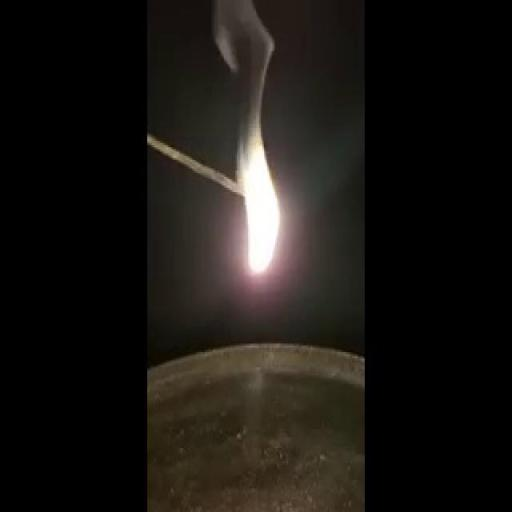smoke: (220, 78, 286, 287)
